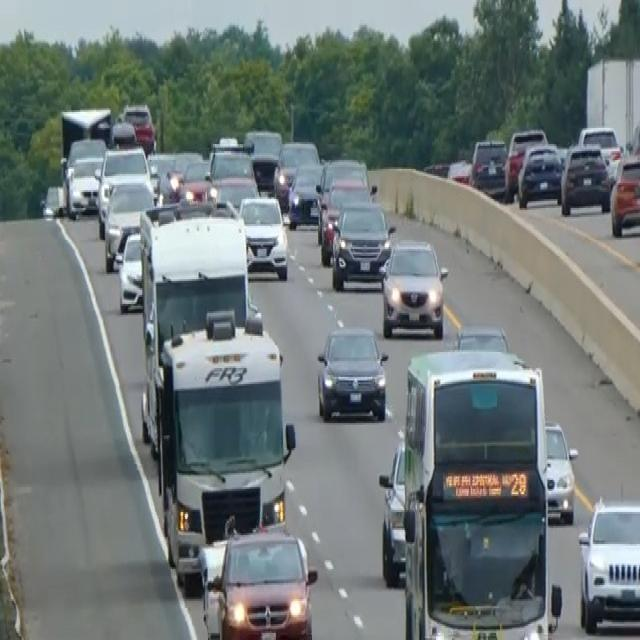bus: (400, 345, 561, 638), (155, 306, 296, 588), (138, 204, 257, 457)
car: (199, 516, 318, 638), (577, 494, 639, 633), (315, 322, 388, 421), (379, 236, 448, 338), (330, 197, 395, 290), (94, 144, 152, 236), (102, 176, 156, 270), (377, 430, 408, 587), (320, 174, 372, 258), (238, 192, 288, 279), (560, 141, 610, 215), (61, 135, 106, 217), (206, 139, 259, 208), (543, 420, 578, 524), (273, 137, 319, 210), (503, 126, 547, 196), (516, 144, 563, 208), (243, 126, 282, 194), (287, 160, 325, 229), (577, 123, 622, 181), (318, 155, 369, 206), (609, 151, 639, 237), (114, 227, 144, 313), (469, 137, 507, 194), (120, 101, 156, 153), (454, 320, 509, 352), (179, 156, 214, 202), (39, 183, 64, 219)
